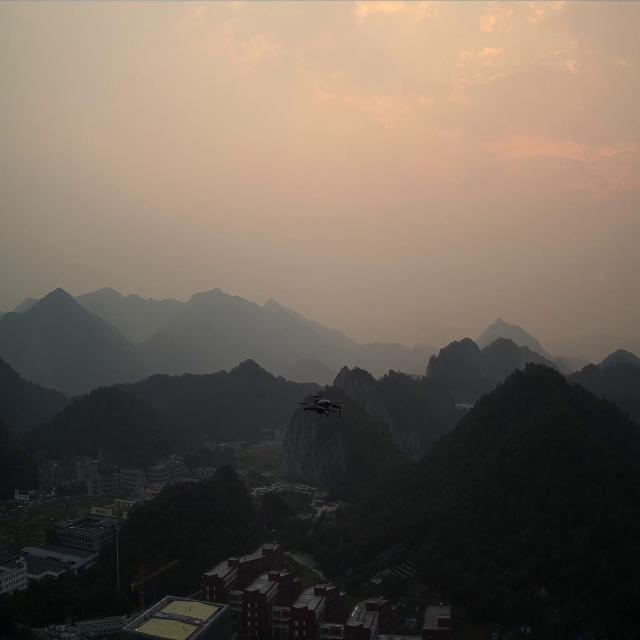UAV: (294, 390, 346, 421)
